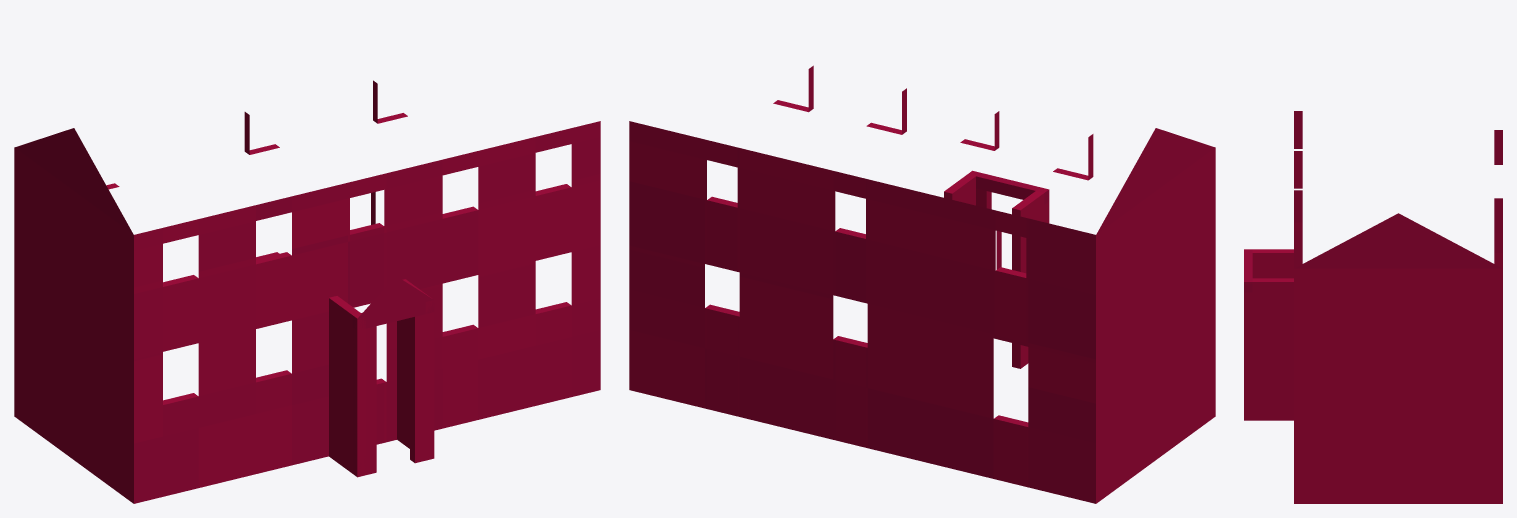
Rendered from SM_Bld_185_Masonry.glb.
3 views of the same model, side by side, from view 1: azimuth 30°, elevation 25°; view 2: azimuth 150°, elevation 25°; view 3: azimuth 270°, elevation 25° (orthographic). The views are drawn at different scales.
Parts seen in each view (by area): view 1: SM_Bld_185_Masonry; view 2: SM_Bld_185_Masonry; view 3: SM_Bld_185_Masonry.
Part boxes in pixels (x1,y1,x2,y2): SM_Bld_185_Masonry: [14, 80, 600, 503]; SM_Bld_185_Masonry: [629, 65, 1215, 503]; SM_Bld_185_Masonry: [1244, 111, 1502, 503].
Bounding box in the file's own units: 12.16 × 8.28 × 6.68.
